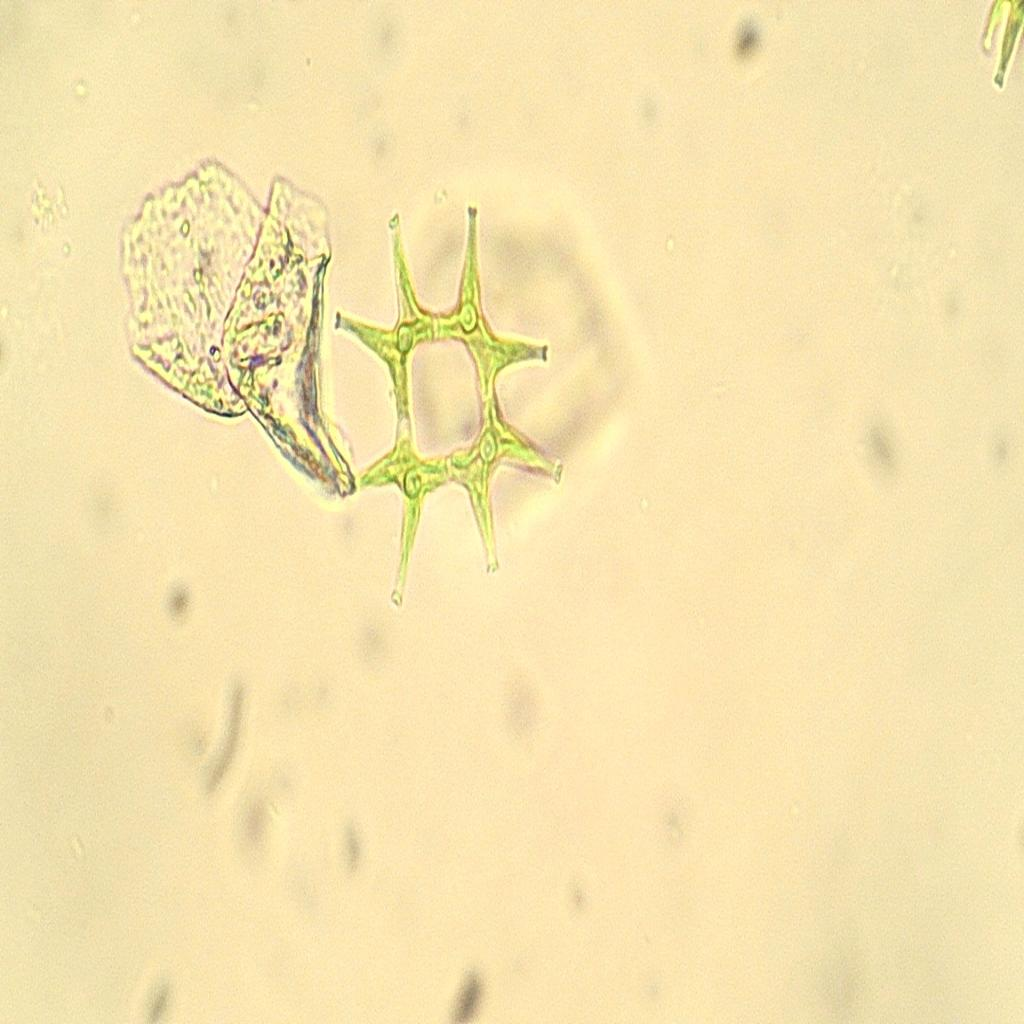Pediastrum_CO: (311, 188, 589, 619)
